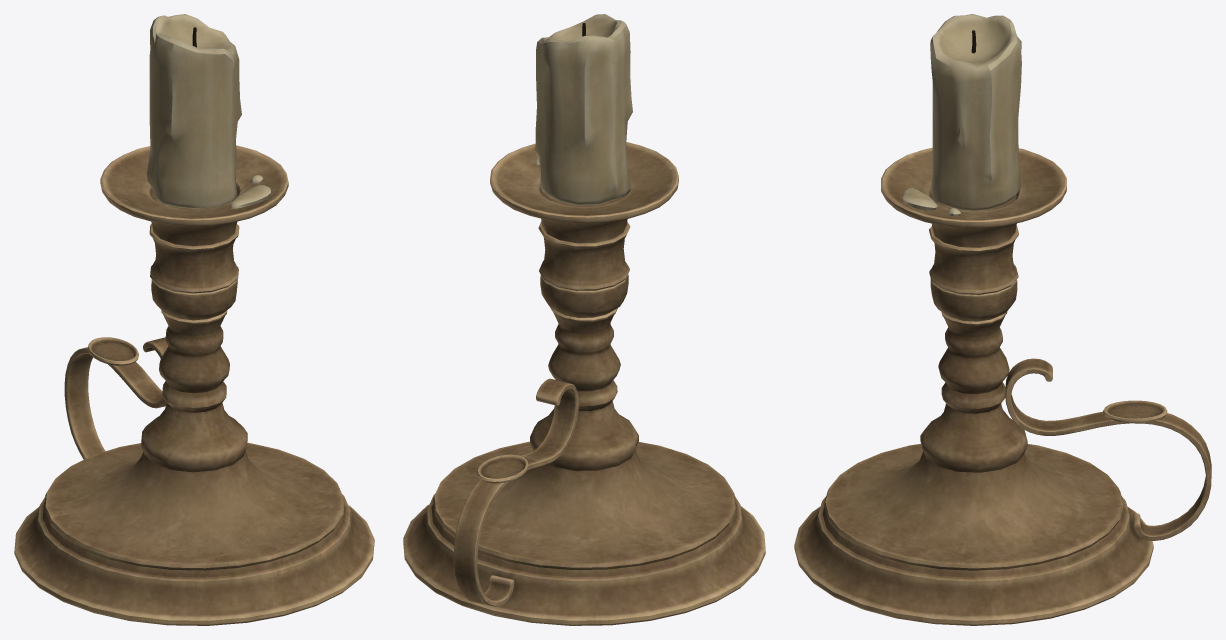
File: candle-a.glb
3 views of the same model, side by side, from view 1: azimuth 30°, elevation 25°; view 2: azimuth 150°, elevation 25°; view 3: azimuth 270°, elevation 25° (orthographic).
Visible parts, largest first — view 1: candle-a; view 2: candle-a; view 3: candle-a.
Part boxes in pixels (x1,y1,x2,y2): candle-a: (14,14,374,625); candle-a: (403,14,765,625); candle-a: (794,14,1211,625).
Size of the model in its own units: 0.1213 by 0.1953 by 0.1409.
2 materials, 2 textured.
